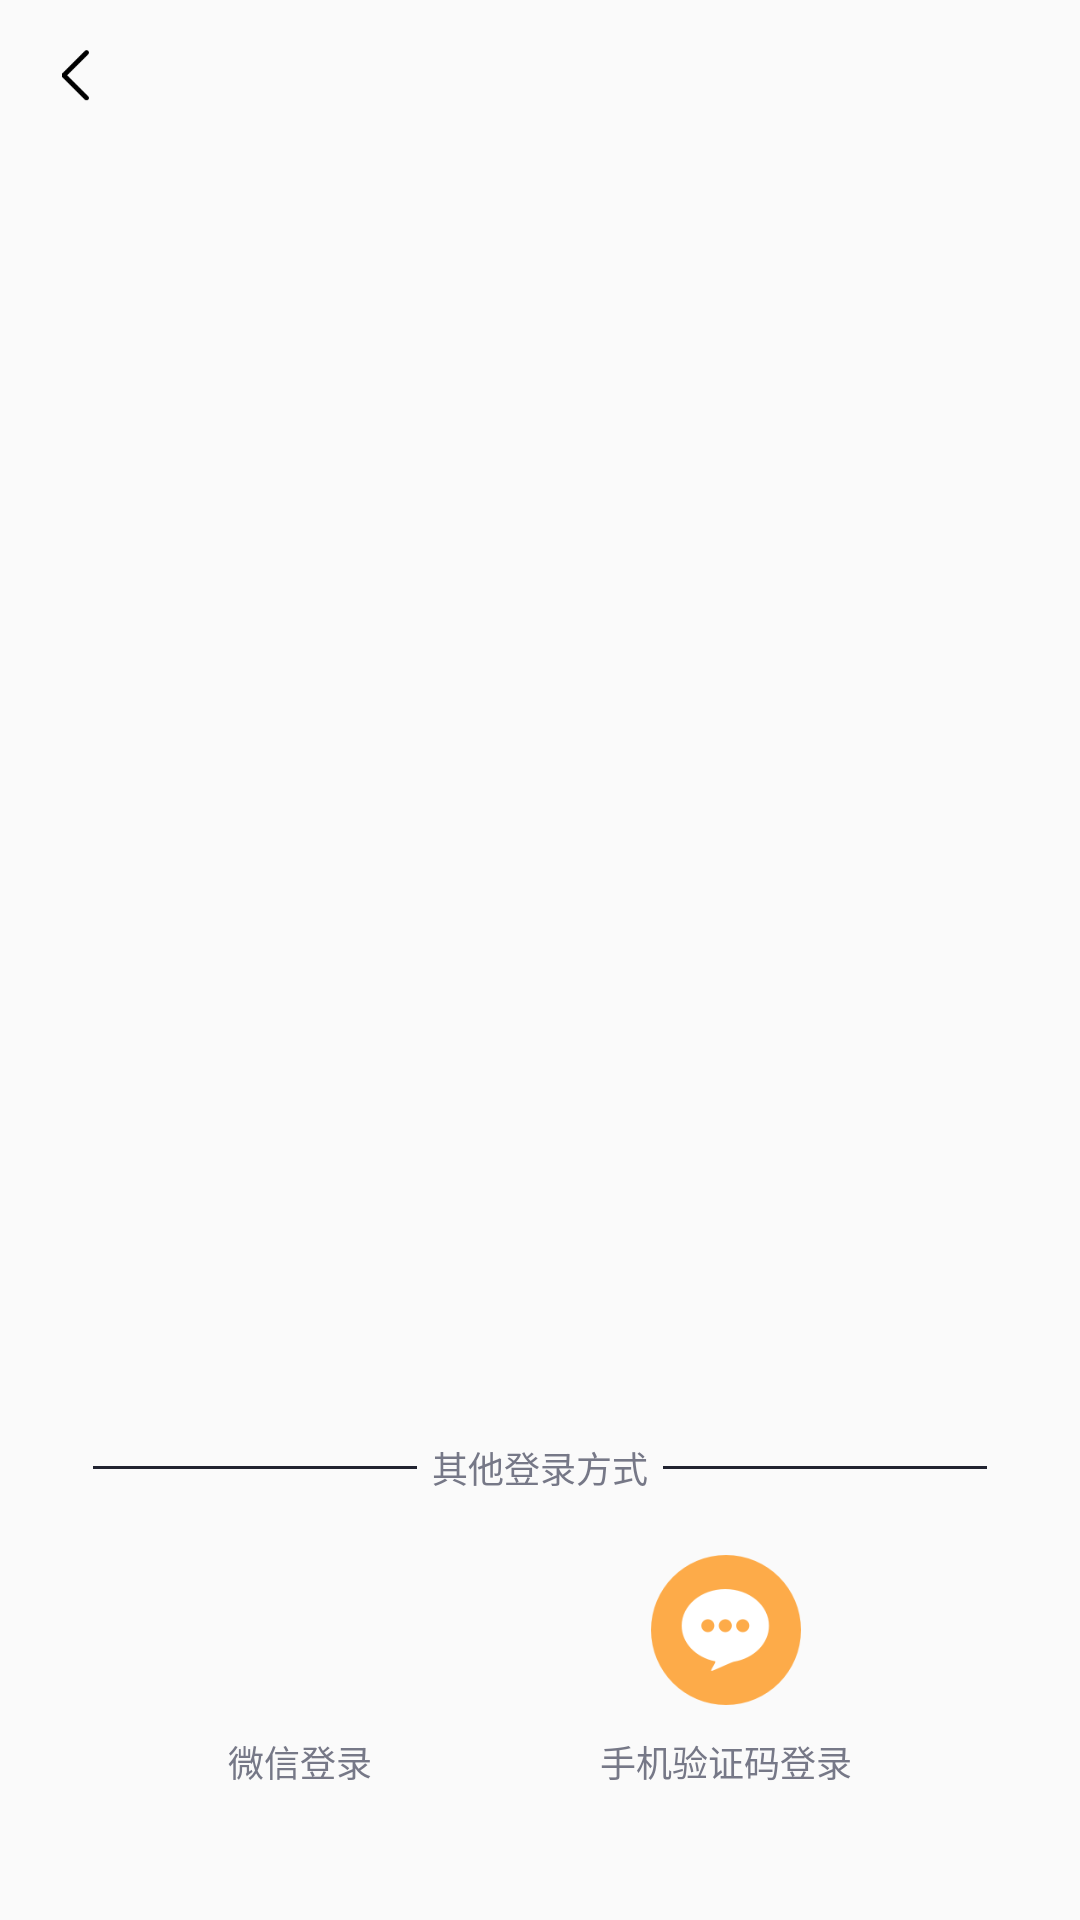

Locate icon controls on the screen. Image size 1080px x 1920px, boxes as {"x1": x1, "y1": y1, "x2": x2, "y2": y2}.
arr left: {"x1": 62, "y1": 50, "x2": 89, "y2": 101}
phone message: {"x1": 651, "y1": 1555, "x2": 801, "y2": 1705}
